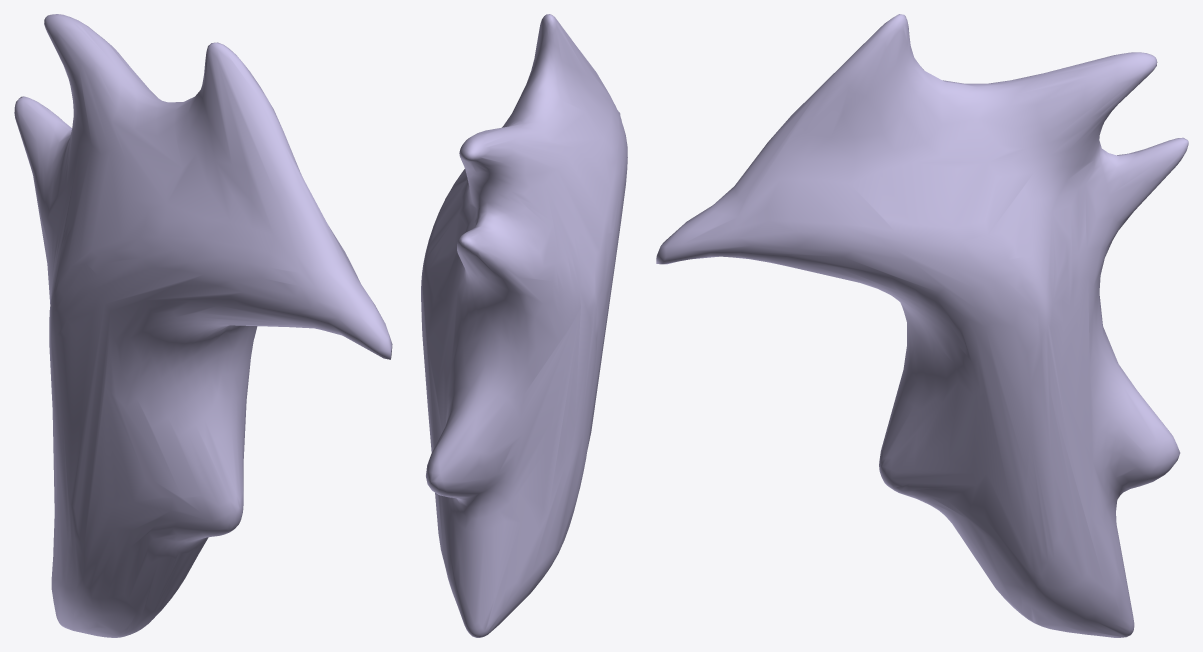
Rendered from Tail_20.fbx.
The picture shows the model from 3 angles, left to right: view 1: azimuth 30°, elevation 25°; view 2: azimuth 150°, elevation 25°; view 3: azimuth 270°, elevation 25°; orthographic projection. The views are drawn at different scales.
Parts seen in each view (by area): view 1: Tail_20; view 2: Tail_20; view 3: Tail_20.
Boxes of the visible parts, x1,y1,x2,y2 form: Tail_20: (14,14,392,637); Tail_20: (421,14,627,637); Tail_20: (656,14,1188,637).
Bounding box in the file's own units: 76.57 × 240 × 182.
